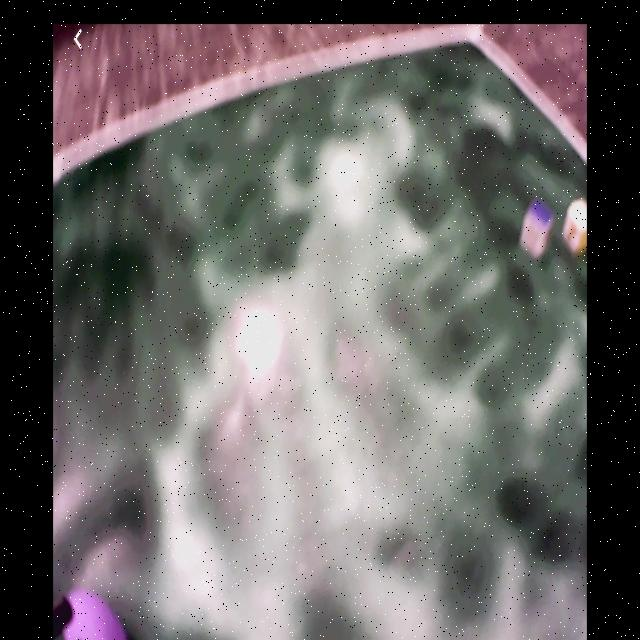ball: (61, 588, 130, 640)
